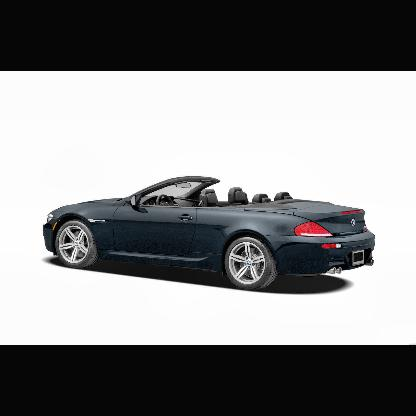BMW M6 Convertible 2010: (43, 178, 375, 295)
